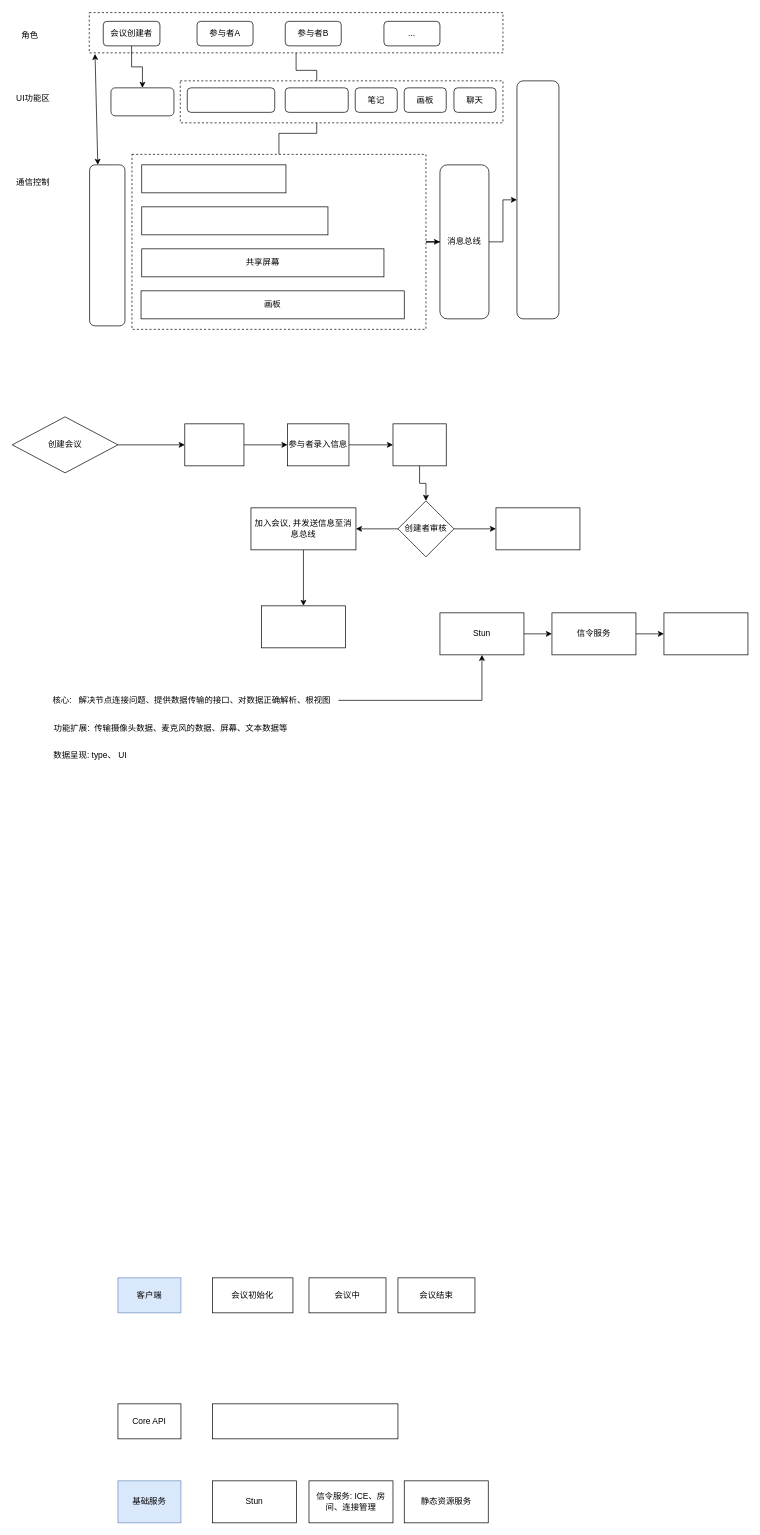
Image size: 760x1535. Some labels were removed from this diagram. Here are the shapes that lost their labels. From the top down, the centre of each, then its label:
point (142, 101): 权限管理
point (231, 99): 媒体(语音/视频)呈现
point (316, 99): 媒体控制
point (213, 178): 控制线(请求下发、结果通知)
point (537, 199): 扩展 UI + Server 企业人才库、 信息持久化、 智能识别
point (234, 220): 视频线
point (107, 245): 信 令 服 务
point (214, 444): 分发链接
point (419, 444): 发送入会请求
point (537, 528): 流程终止
point (303, 626): 可以通过扩展实现企业人才库对接
point (705, 633): 业务层: 静态资源、数据交互
